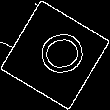O_W: (25, 27, 85, 83)
